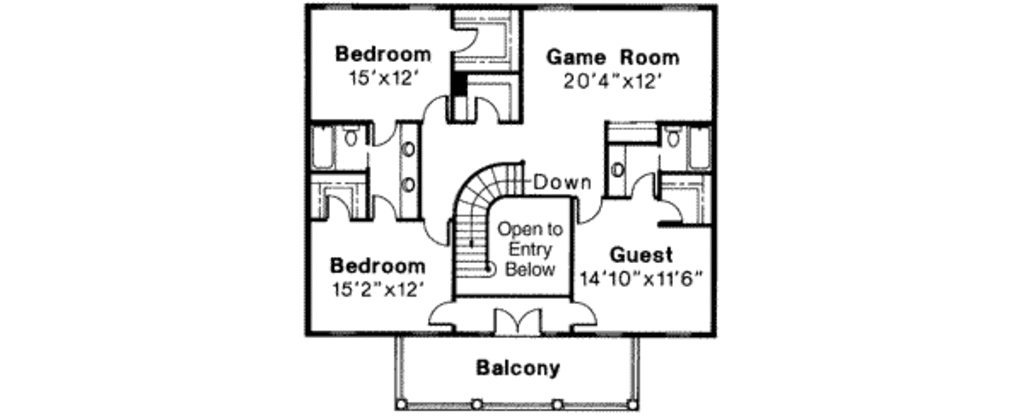door: (488, 305, 546, 336), (471, 93, 505, 128), (656, 195, 689, 231), (568, 294, 600, 330), (448, 26, 480, 58), (420, 94, 451, 127), (366, 194, 400, 224), (425, 299, 457, 330), (370, 118, 399, 147), (576, 199, 609, 224), (322, 193, 350, 222), (423, 216, 450, 246), (631, 172, 658, 202)
large_sink: (336, 119, 362, 152), (664, 122, 686, 152)
small_sink: (399, 123, 419, 218), (609, 143, 629, 198)
stairs: (447, 160, 529, 276)
tub: (686, 122, 716, 172), (314, 124, 338, 172)
